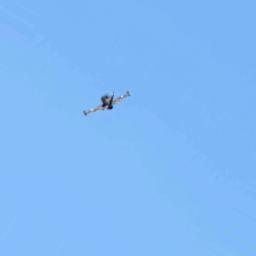Airplane: (81, 90, 131, 116)
